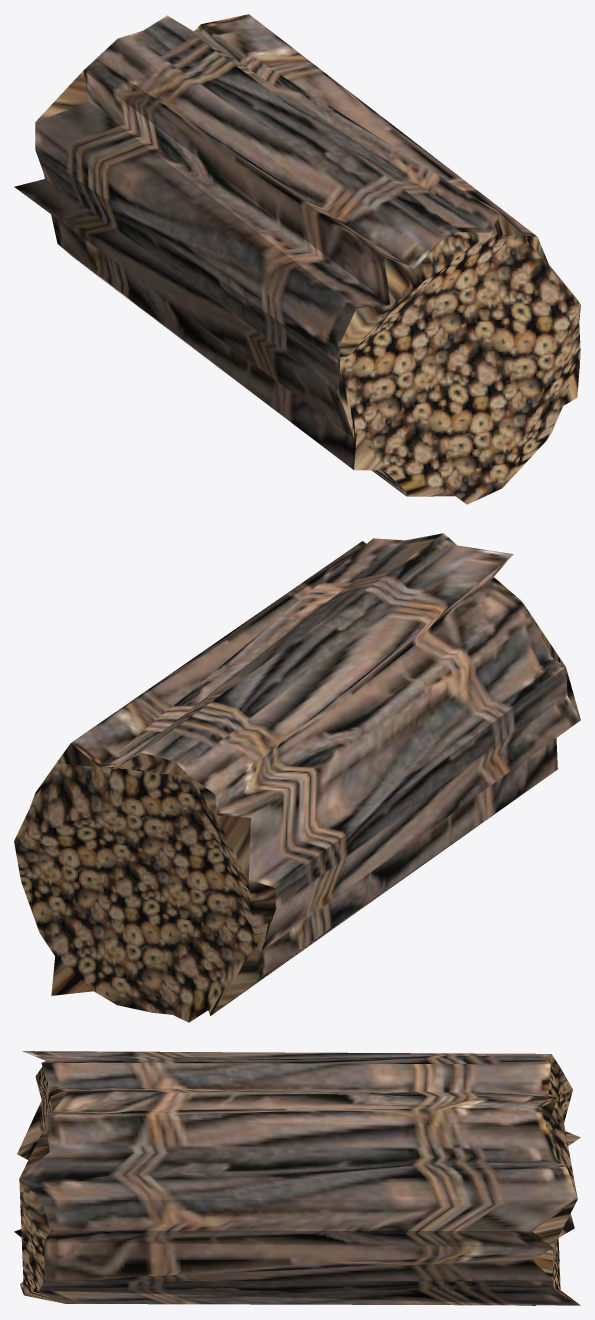
Rendered from woodbundle.glb.
3 renders of one model, top to bottom at view 1: azimuth 30°, elevation 25°; view 2: azimuth 150°, elevation 25°; view 3: azimuth 270°, elevation 25°, orthographic. The views are drawn at different scales.
Visible parts, largest first — view 1: Cylinder; view 2: Cylinder; view 3: Cylinder.
Part boxes in pixels (<box>): Cylinder: <box>14,14,580,504</box>; Cylinder: <box>14,533,580,1022</box>; Cylinder: <box>14,1051,580,1305</box>.
Size of the model in its own units: 2.11 by 2.06 by 4.65.
1 material, 1 textured.
